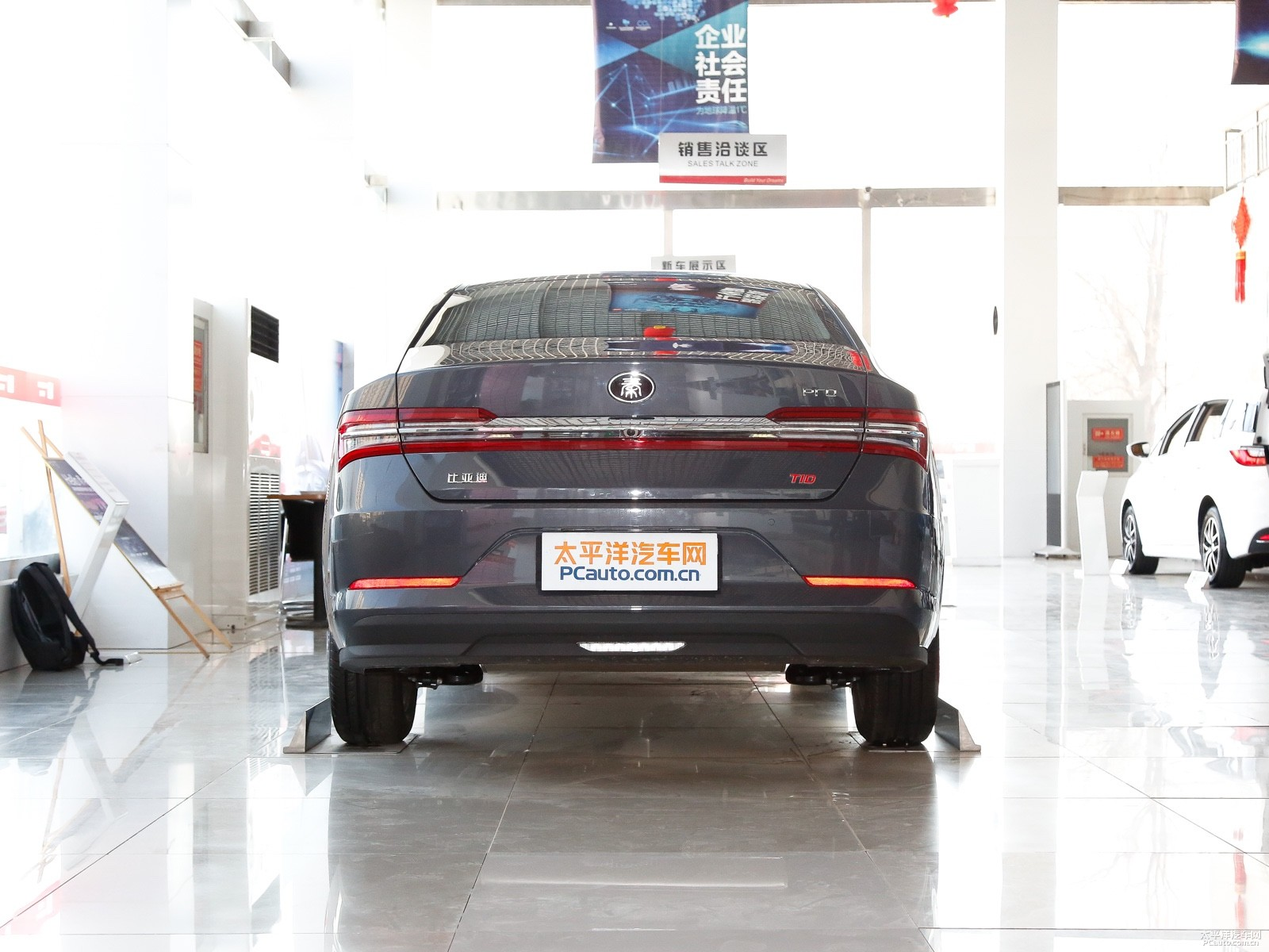BYD Qin: (608, 373, 654, 402)
